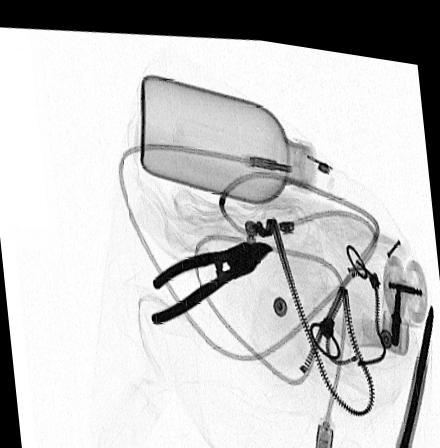Pliers: (149, 228, 278, 323)
